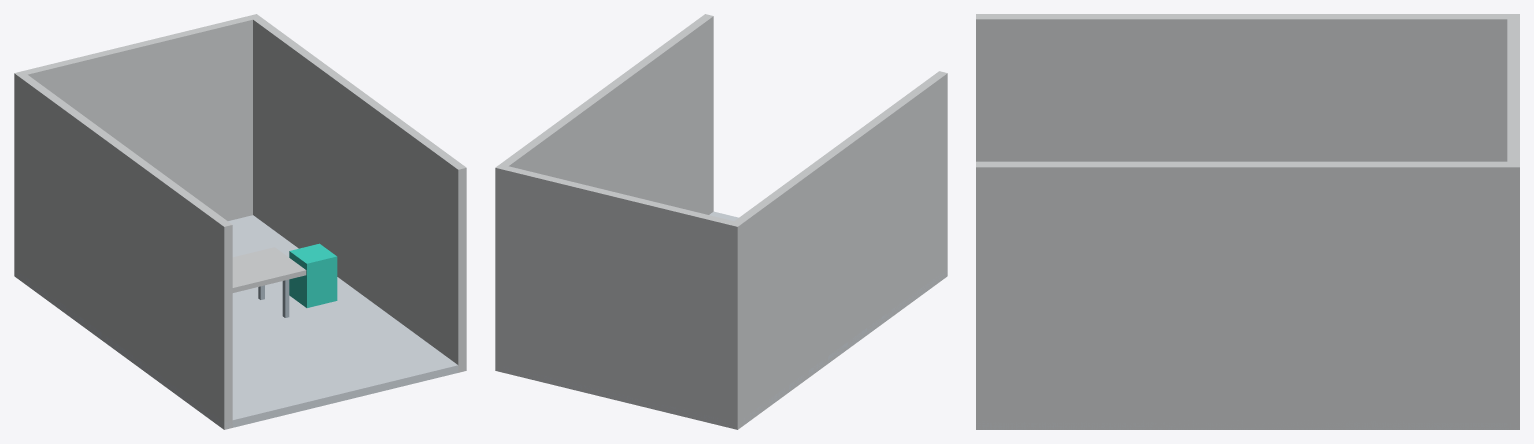
The picture shows the model from 3 angles, left to right: view 1: azimuth 30°, elevation 25°; view 2: azimuth 150°, elevation 25°; view 3: azimuth 270°, elevation 25°; orthographic projection. The views are drawn at different scales.
Visible parts, largest first — view 1: Exhibition Booth Concept; view 2: Exhibition Booth Concept; view 3: Exhibition Booth Concept.
Part boxes in pixels (box(x1,y1,x2,y2)): Exhibition Booth Concept: box(14, 14, 466, 429); Exhibition Booth Concept: box(495, 14, 947, 429); Exhibition Booth Concept: box(976, 14, 1519, 429).
Bounding box in the file's own units: 4 × 3.2 × 6.
